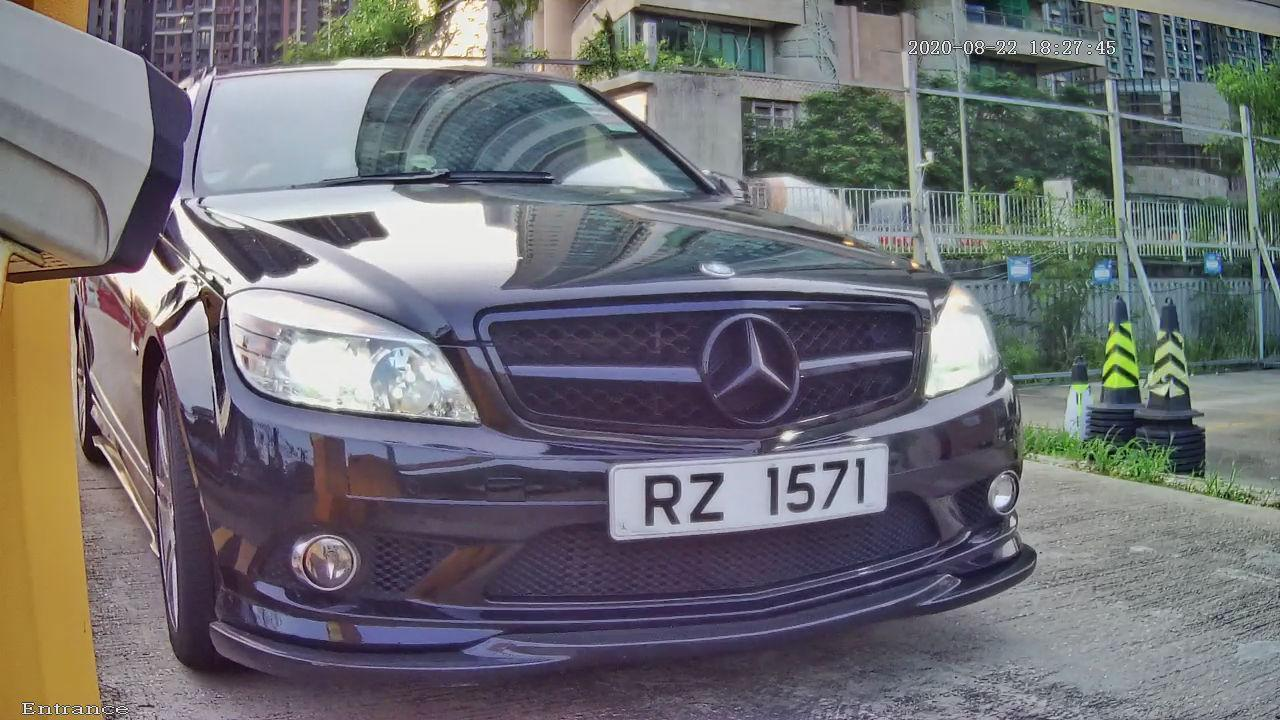Car: (18, 17, 1103, 711)
License Plate: (601, 431, 898, 544)
